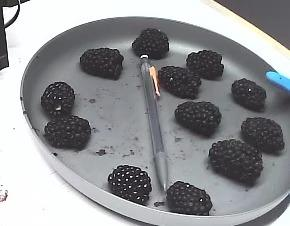berry: (209, 139, 262, 186), (108, 165, 151, 205), (175, 101, 220, 136), (44, 115, 90, 149), (241, 117, 284, 153), (166, 181, 211, 215), (158, 66, 200, 98), (80, 48, 123, 79), (41, 82, 74, 118), (231, 78, 265, 111), (132, 28, 168, 59), (186, 50, 223, 79)
